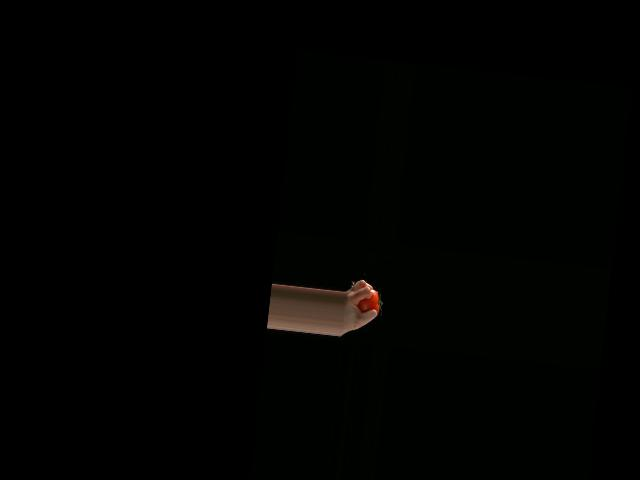tomato: (357, 288, 381, 314)
